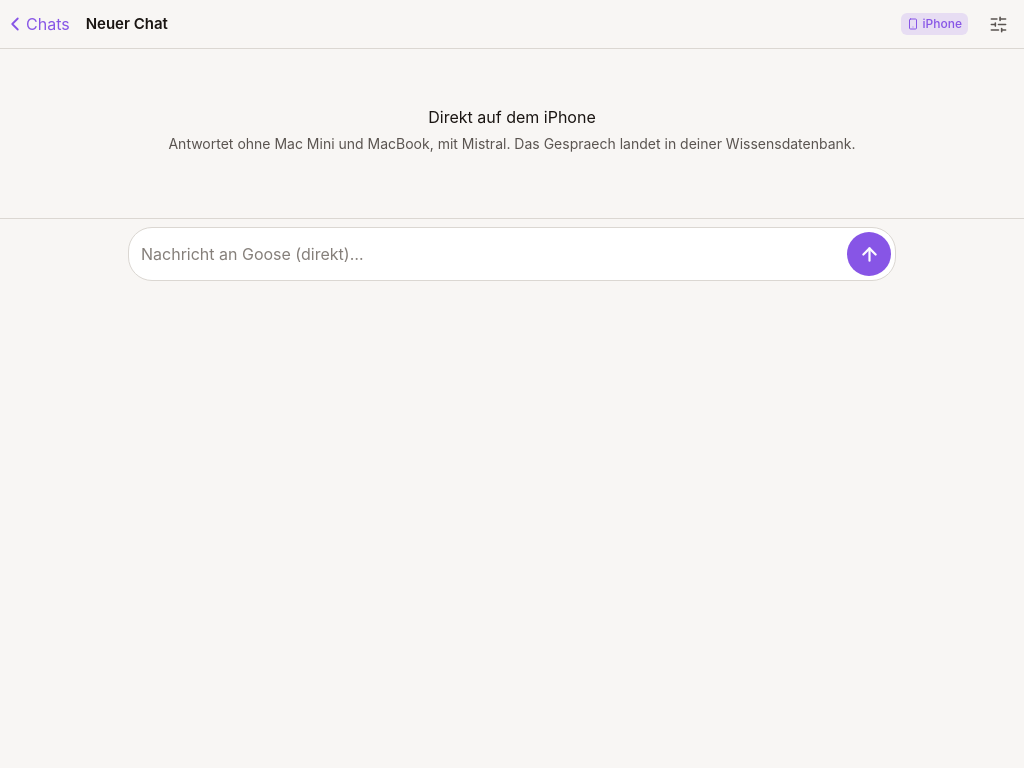
Test case: Direkt-Chat-Ansicht › Modell wechseln und archivieren
The image size is (1024, 768).
Check: the text "Direkt auf dem iPhone" is shown, box [428,107,596,127]
Click the button named "Modell fuer diesen Chat waehlen" at (998, 24), box [976,2,1020,46]
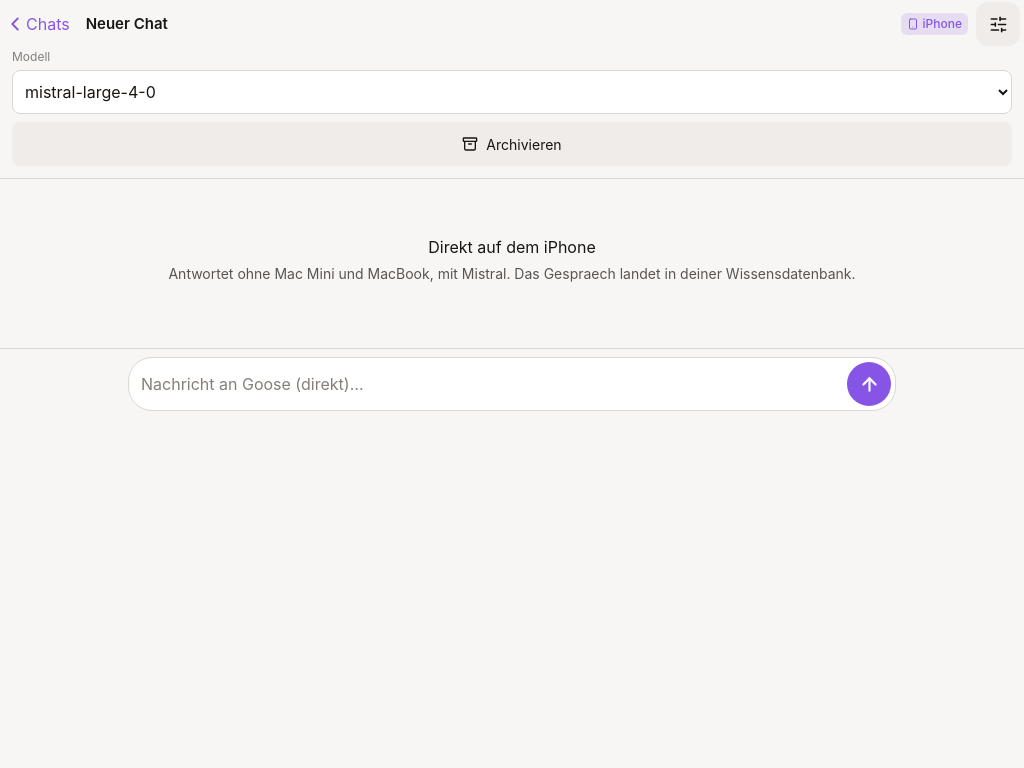
Select "EUrouter: gpt-x" in the dropdown labelled "Modell" at (512, 92), box [12,70,1012,114]
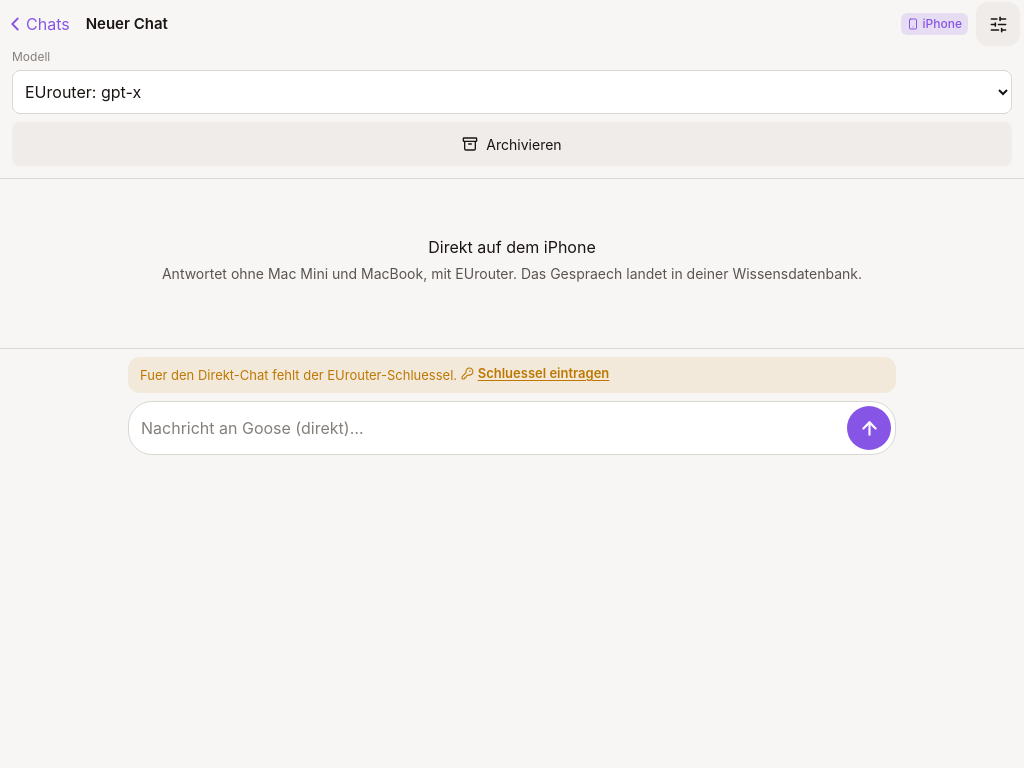
Check: the text "fehlt der EUrouter-Schluessel" is shown, box [140,365,609,383]
Click the button with aria-label "Chat archivieren" at (512, 144), box [12,122,1012,166]
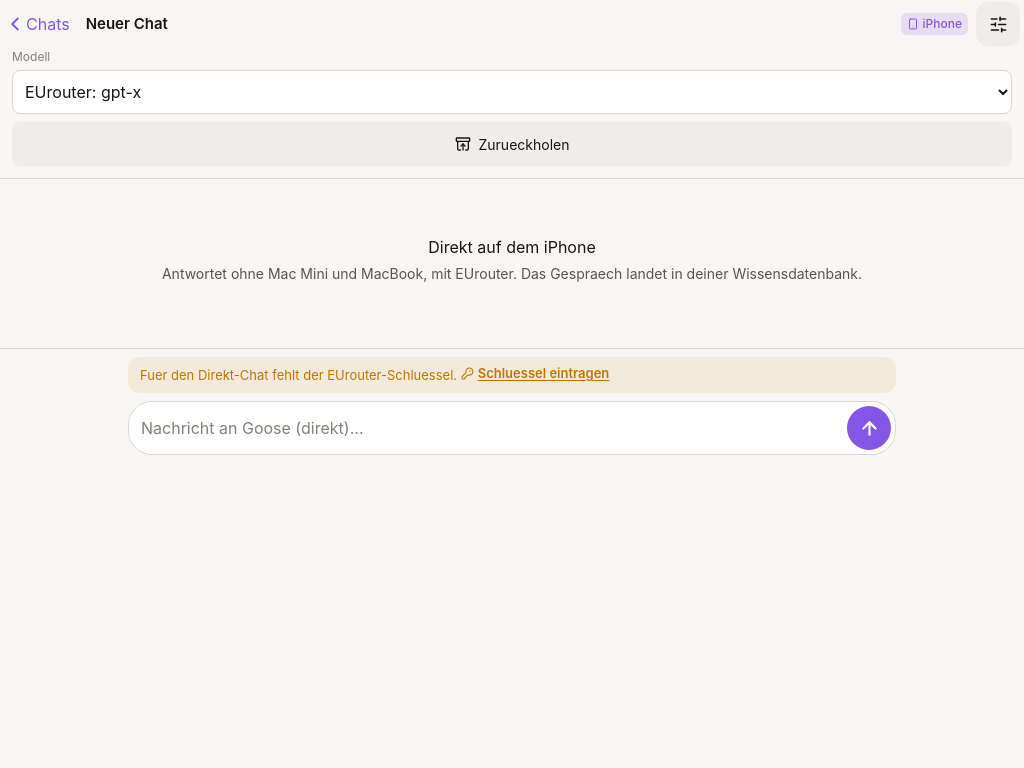
Check: the button with aria-label "Chat aus dem Archiv zurueckholen" is shown, box [12,122,1012,166]
